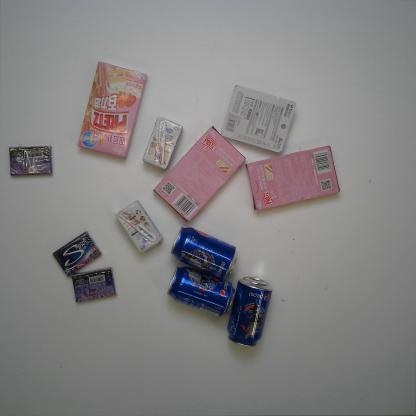Dessert: (152, 125, 247, 222), (77, 61, 148, 159), (245, 145, 340, 211)
Drink: (170, 226, 239, 279), (167, 266, 235, 318), (227, 276, 273, 347)
Gum: (52, 231, 102, 277), (71, 267, 117, 303), (9, 146, 53, 176)
Milk: (115, 200, 163, 254), (142, 117, 183, 170)
Stationery: (220, 85, 296, 153)
